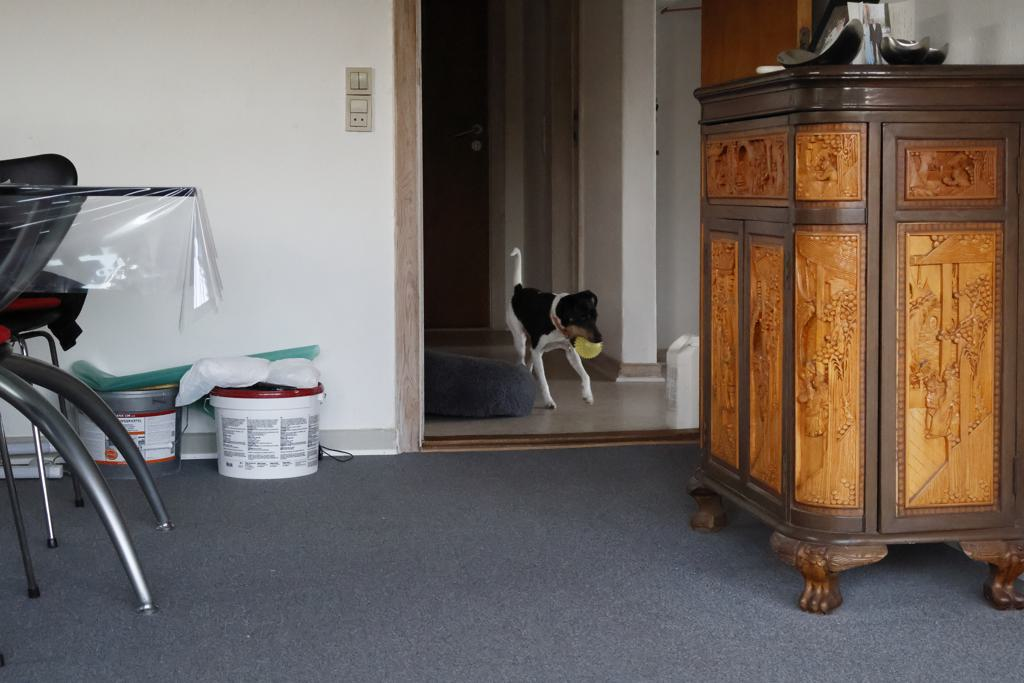Dog: (489, 240, 623, 421)
